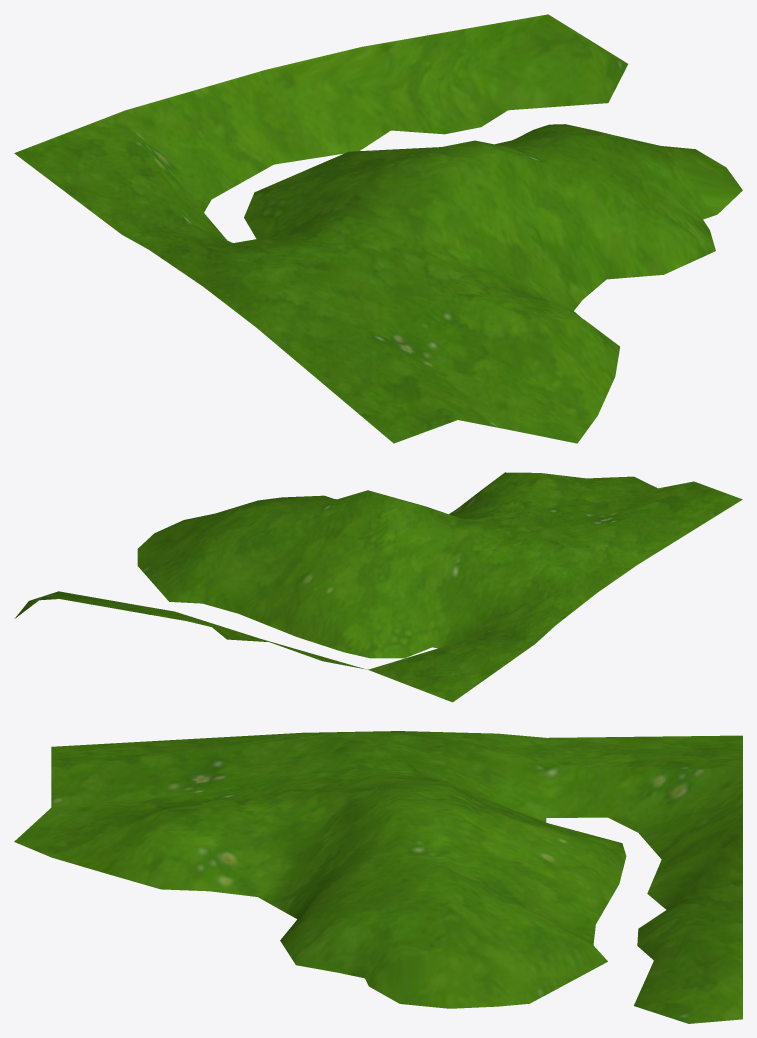
Rendered from Amazon04_Terrain03.FBX.
3 renders of one model, top to bottom at view 1: azimuth 30°, elevation 25°; view 2: azimuth 150°, elevation 25°; view 3: azimuth 270°, elevation 25°, orthographic. The views are drawn at different scales.
Visible parts, largest first — view 1: Amazon04_Terrain03; view 2: Amazon04_Terrain03; view 3: Amazon04_Terrain03.
Boxes of the visible parts, x1,y1,x2,y2 form: Amazon04_Terrain03: [14, 14, 742, 443]; Amazon04_Terrain03: [14, 472, 742, 702]; Amazon04_Terrain03: [14, 731, 742, 1023].
Size of the model in its own units: 7203 by 1251 by 8544.
